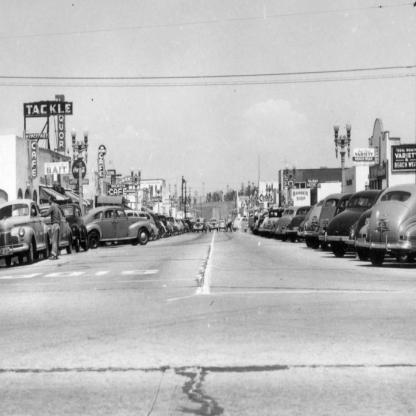Car: (356, 185, 416, 269), (326, 191, 384, 255), (1, 201, 54, 263), (86, 204, 153, 249), (128, 211, 191, 243), (42, 201, 74, 253), (62, 206, 89, 253), (319, 194, 340, 251), (301, 199, 324, 249), (286, 205, 314, 241), (276, 208, 300, 237), (262, 208, 286, 234)
